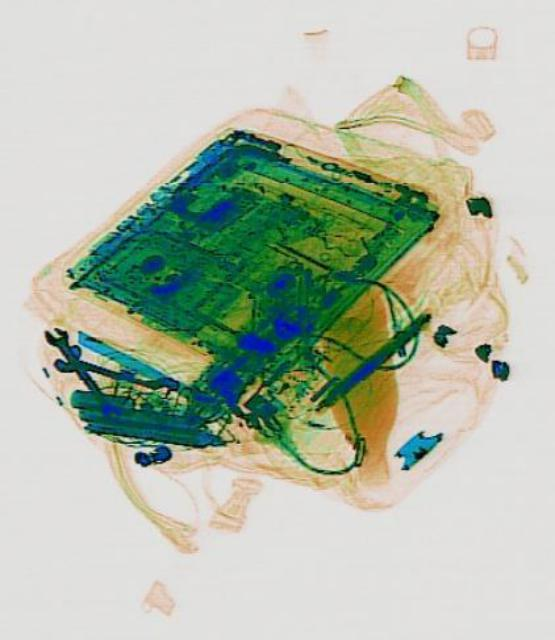Wrench: (38, 320, 120, 426), (48, 337, 179, 401)
